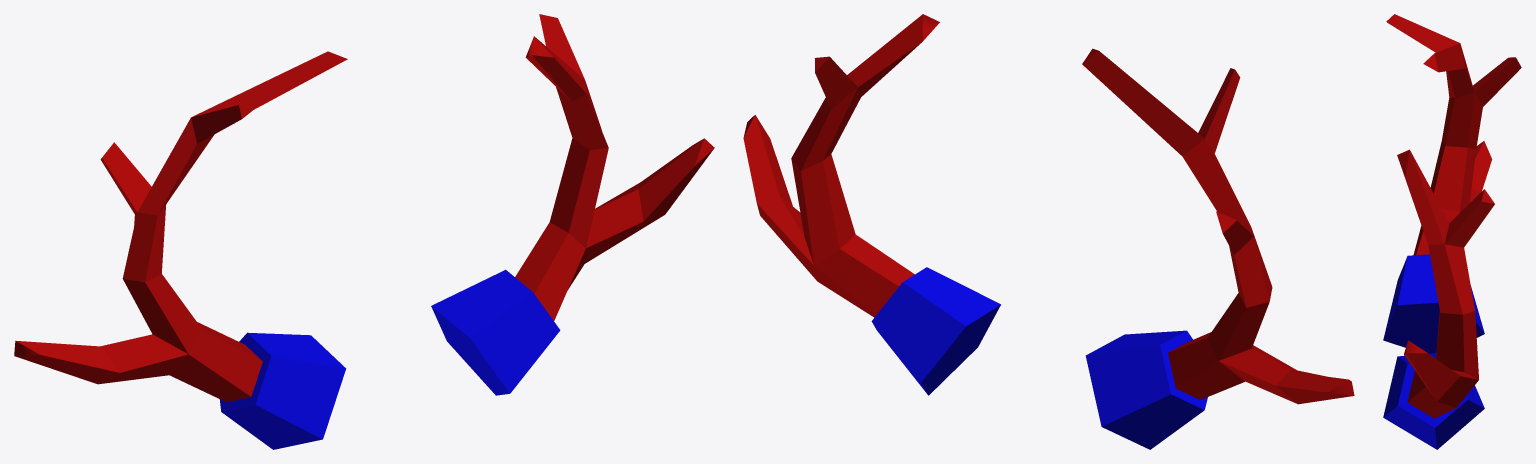
Rendered from Chr_HelmetAttachment_Static_04.fbx.
3 views of the same model, side by side, from view 1: azimuth 30°, elevation 25°; view 2: azimuth 150°, elevation 25°; view 3: azimuth 270°, elevation 25° (orthographic). The views are drawn at different scales.
Visible parts, largest first — view 1: Chr_HelmetAttachment_04; view 2: Chr_HelmetAttachment_04; view 3: Chr_HelmetAttachment_04.
Boxes of the visible parts, x1,y1,x2,y2 form: Chr_HelmetAttachment_04: (14,14,714,449); Chr_HelmetAttachment_04: (743,14,1354,449); Chr_HelmetAttachment_04: (1383,14,1521,449).
Bounding box in the file's own units: 59.83 × 33.75 × 12.97.
